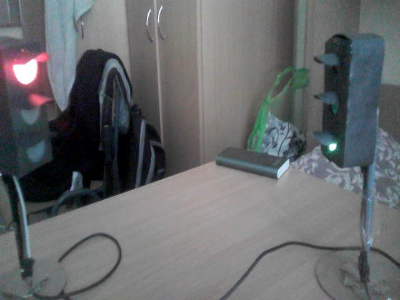trafficlight_green: (313, 38, 352, 162)
trafficlight_red: (3, 45, 52, 168)
